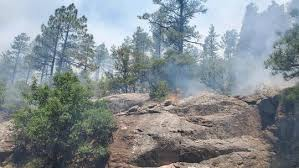smoke: (227, 15, 275, 67), (4, 67, 29, 107), (176, 72, 202, 94), (236, 64, 258, 86)
